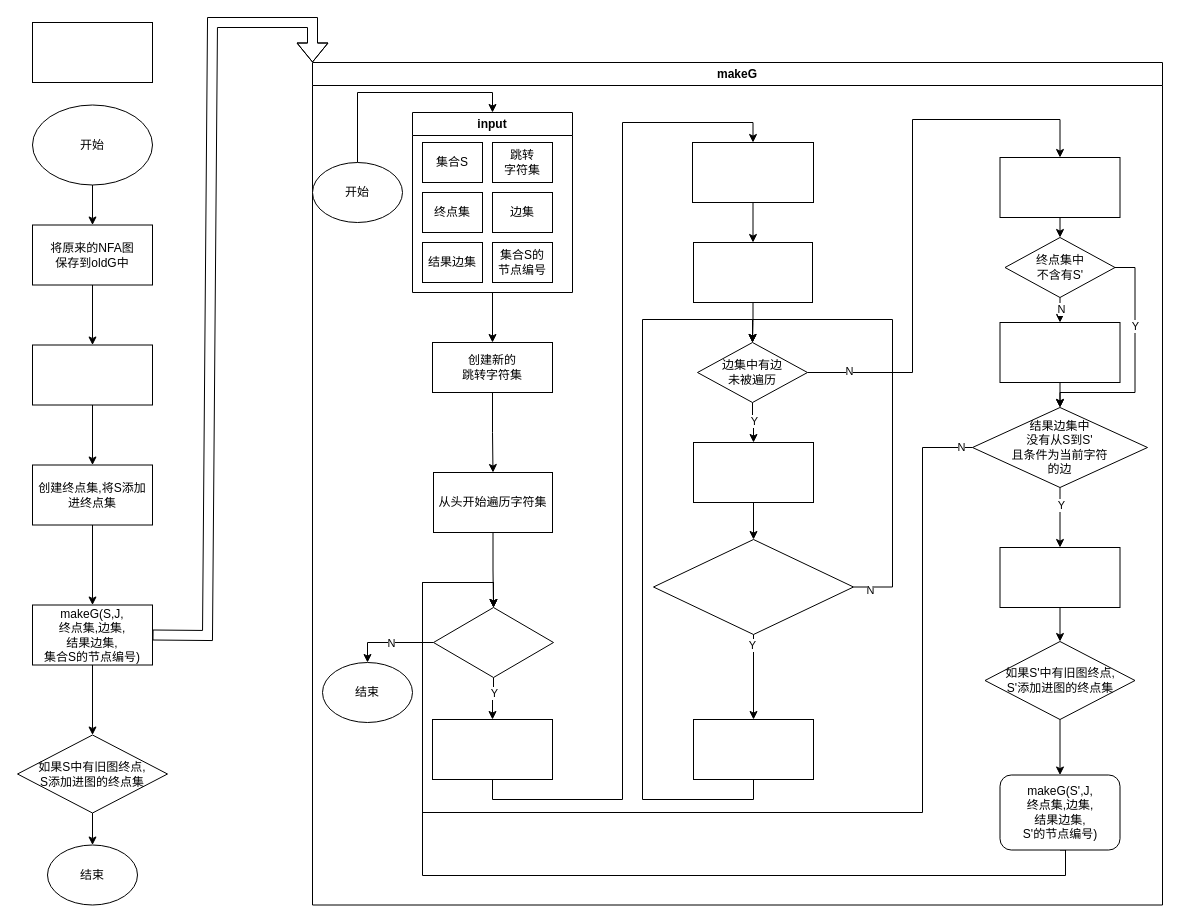
This 1180x923 diagram has some shape labels left out. The centre of each missing label's shape, as x and y in pixels:
"toDFA" belongs at (x=92, y=52).
"从头开始遍历边集" belongs at (x=752, y=272).
"创建集合S'" belongs at (x=753, y=172).
"取新节点" belongs at (x=1059, y=352).
"取跳转字符集中 的一个字符" belongs at (x=492, y=749).
"取边集中 的一条边" belongs at (x=753, y=472).
"如果 边的起始点在集合S中 且边的条件等于取出的字符" belongs at (x=753, y=586).
"字符集中 有字符未被遍历" belongs at (x=493, y=642).
"将 从S到S' 且 条件为当前字符 的边 添加到结果边集中" belongs at (x=1059, y=577).
"把S'更新为 S'的epsilon闭包 得到S'的跳转集J" belongs at (x=1059, y=187).
"求起始点的epsilon闭包S,得到跳转集J" belongs at (x=92, y=374).
"边的终点 添加进集合S'" belongs at (x=753, y=749).
